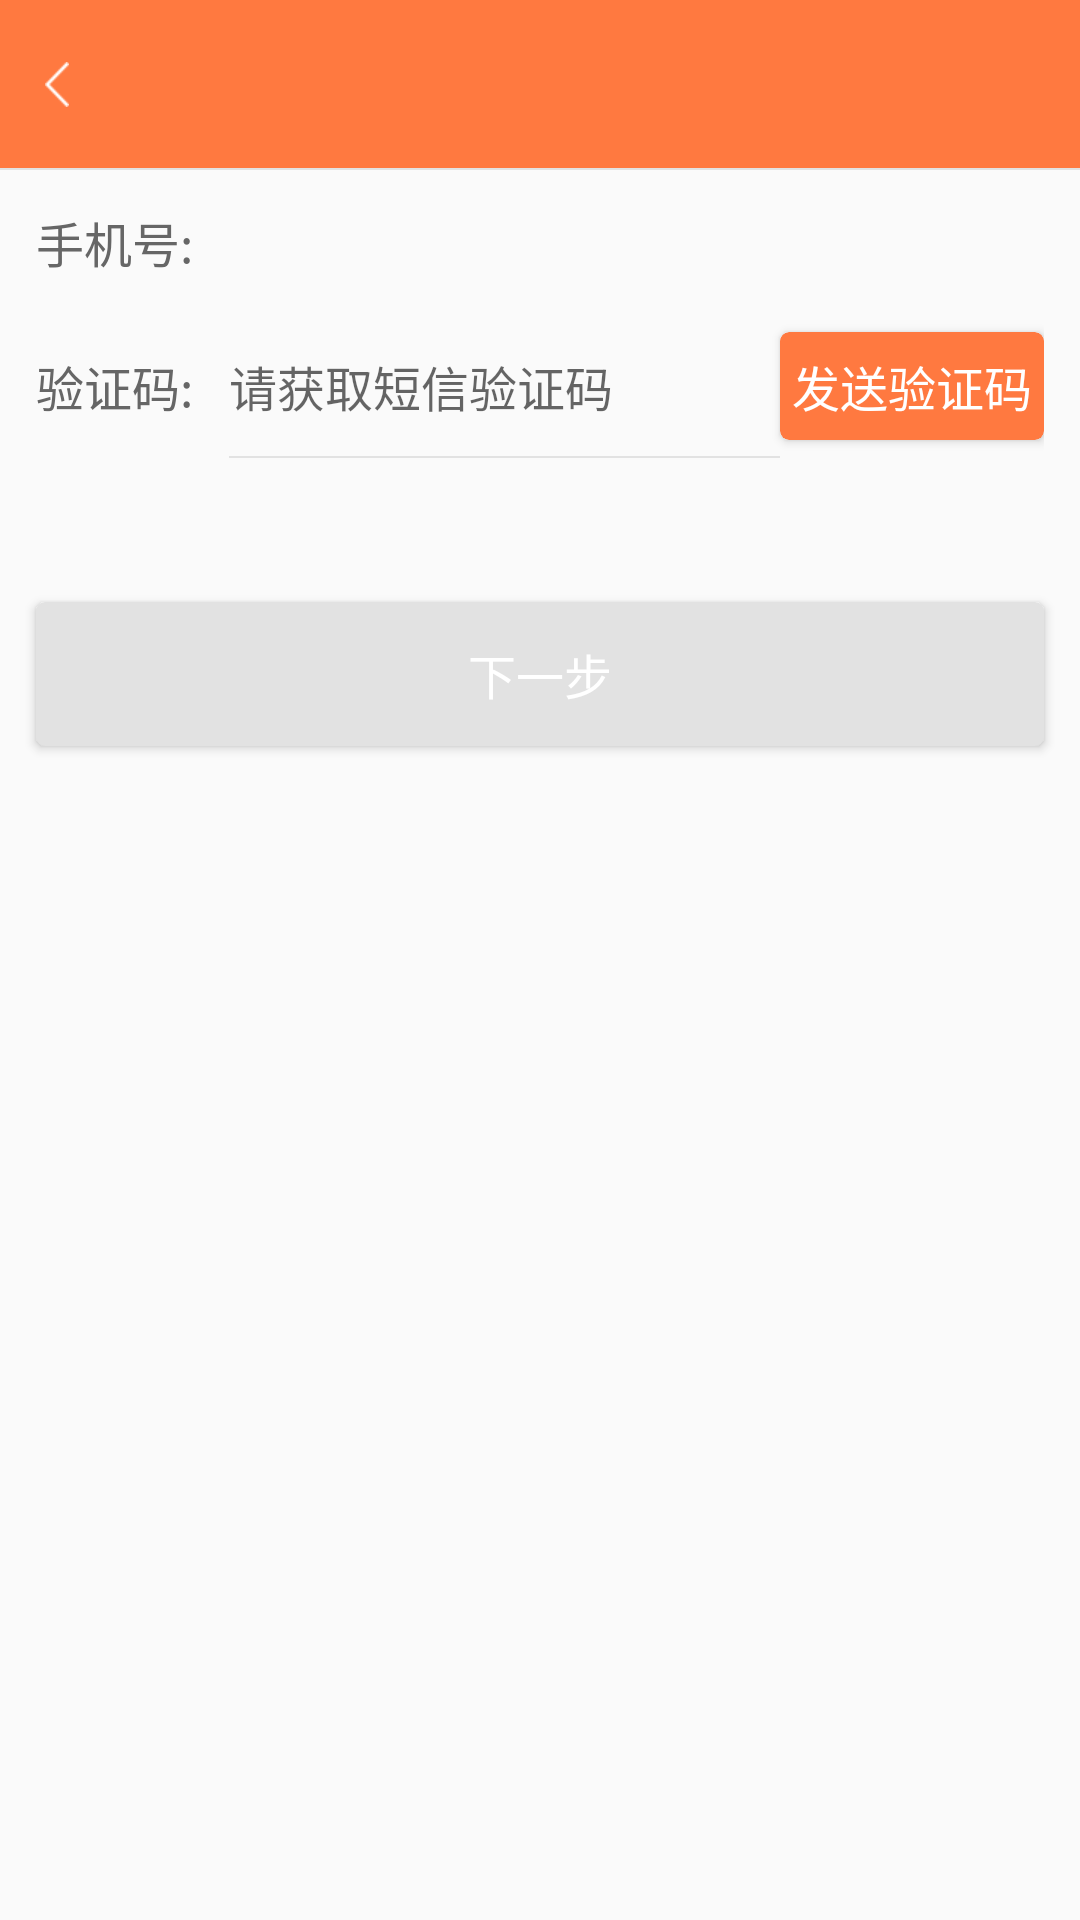

Screen size 1080 × 1920. Icon name, then its center in pixels as (x=x, y=y):
arrow back: (x=57, y=84)
